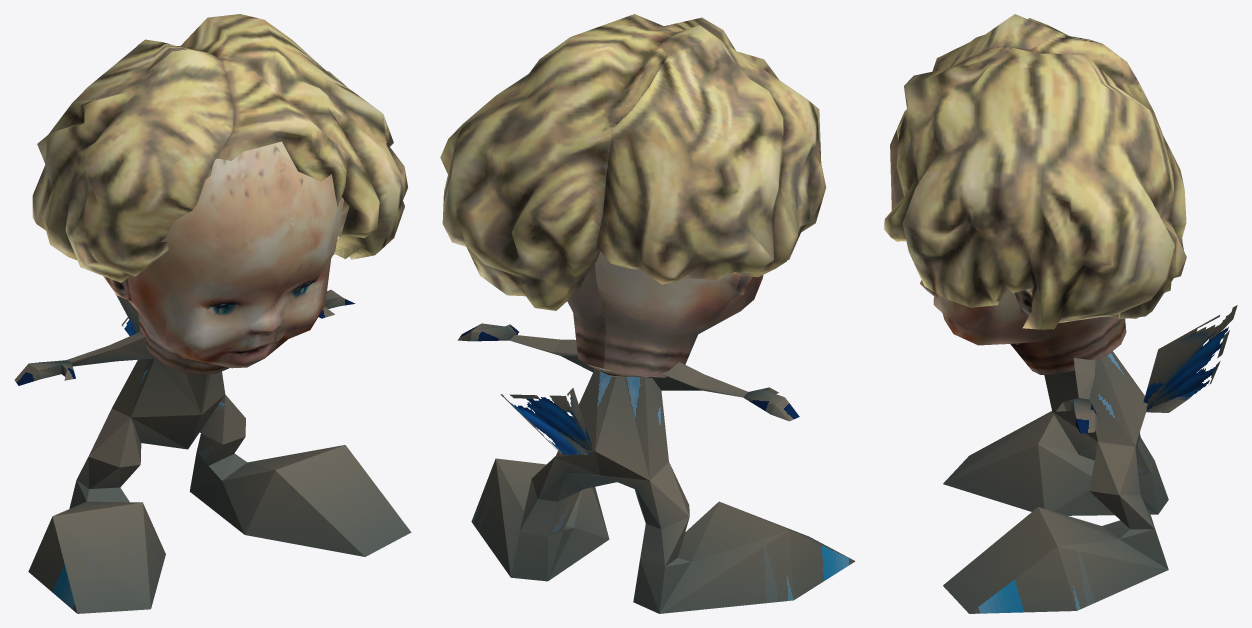
Rendered from snow-bunny-lod0.glb.
The picture shows the model from 3 angles, left to right: view 1: azimuth 30°, elevation 25°; view 2: azimuth 150°, elevation 25°; view 3: azimuth 270°, elevation 25°; orthographic projection. The views are drawn at different scales.
Parts seen in each view (by area): view 1: A-CM_X360_PROP_Casey's_Head, snow-bunny-lod0; view 2: A-CM_X360_PROP_Casey's_Head, snow-bunny-lod0; view 3: A-CM_X360_PROP_Casey's_Head, snow-bunny-lod0.
Part boxes in pixels (x1,y1,x2,y2): A-CM_X360_PROP_Casey's_Head: [32, 14, 408, 375]; snow-bunny-lod0: [14, 289, 411, 613]; A-CM_X360_PROP_Casey's_Head: [440, 14, 826, 377]; snow-bunny-lod0: [457, 323, 855, 613]; A-CM_X360_PROP_Casey's_Head: [884, 14, 1186, 374]; snow-bunny-lod0: [943, 305, 1237, 613].
Bounding box in the file's own units: 1.36 × 1.93 × 1.23.
Materials: 6 (6 with a texture image).
